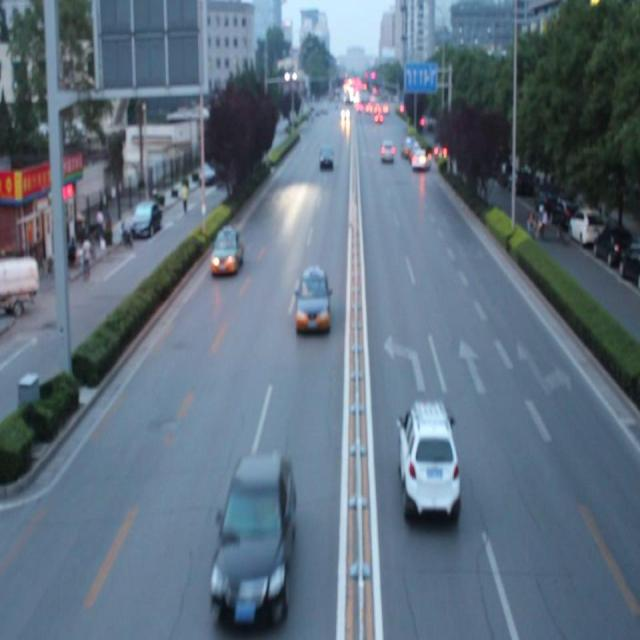car: (209, 448, 298, 626), (395, 394, 461, 522), (293, 264, 332, 333), (210, 225, 243, 278)
